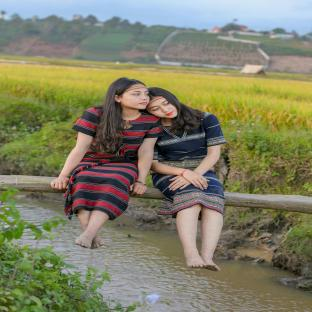Human: (51, 77, 162, 249), (147, 87, 226, 271)
